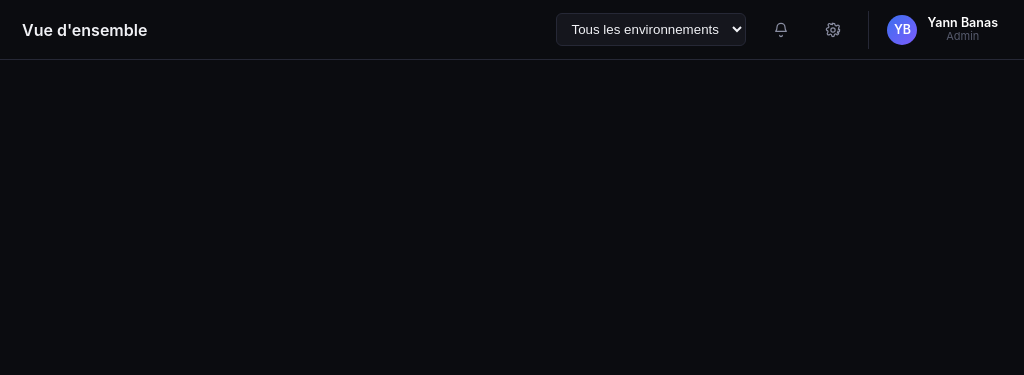
it: menu Réglages du Topbar — non-régression du reste › choisir une entrée ouvre la vue Réglages sur cette section, et referme le menu
The width and height of the screenshot is (1024, 375).
What coordinates should you click on to do the following:
click the button named "Réglages"
I would click on:
 (834, 30)
Its box is [816, 12, 850, 46].
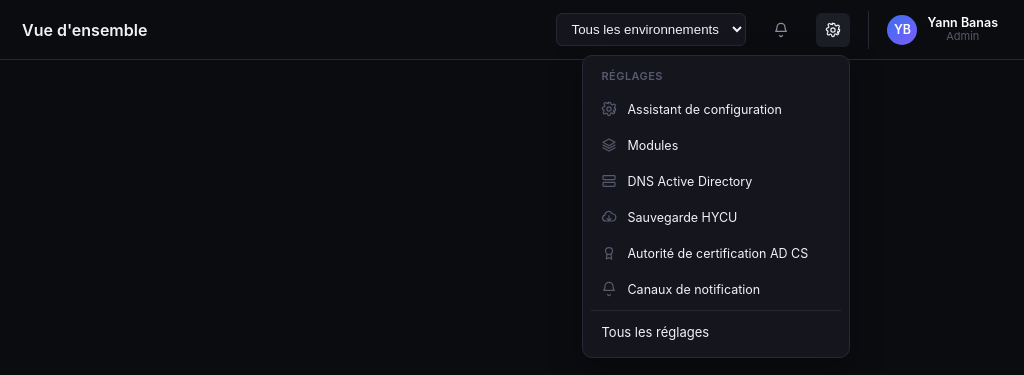
What coordinates should you click on to do the following:
click the menu item "Sauvegarde HYCU"
I would click on:
 (716, 217)
Its box is [592, 200, 842, 234].
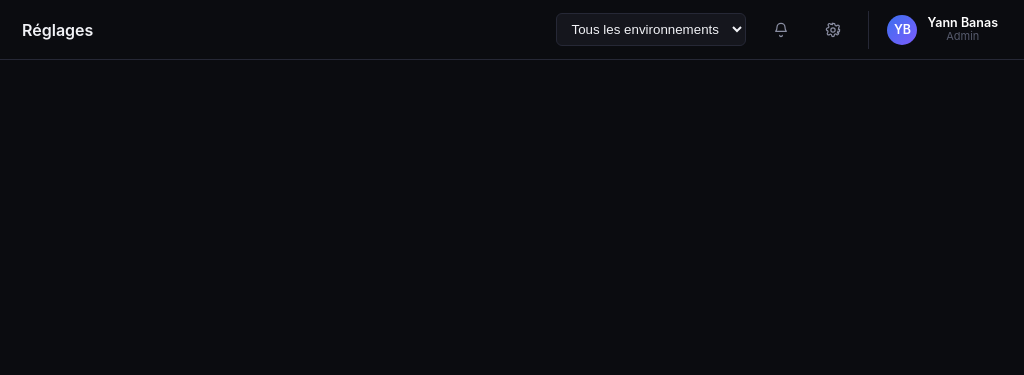
Result: the menu is gone
